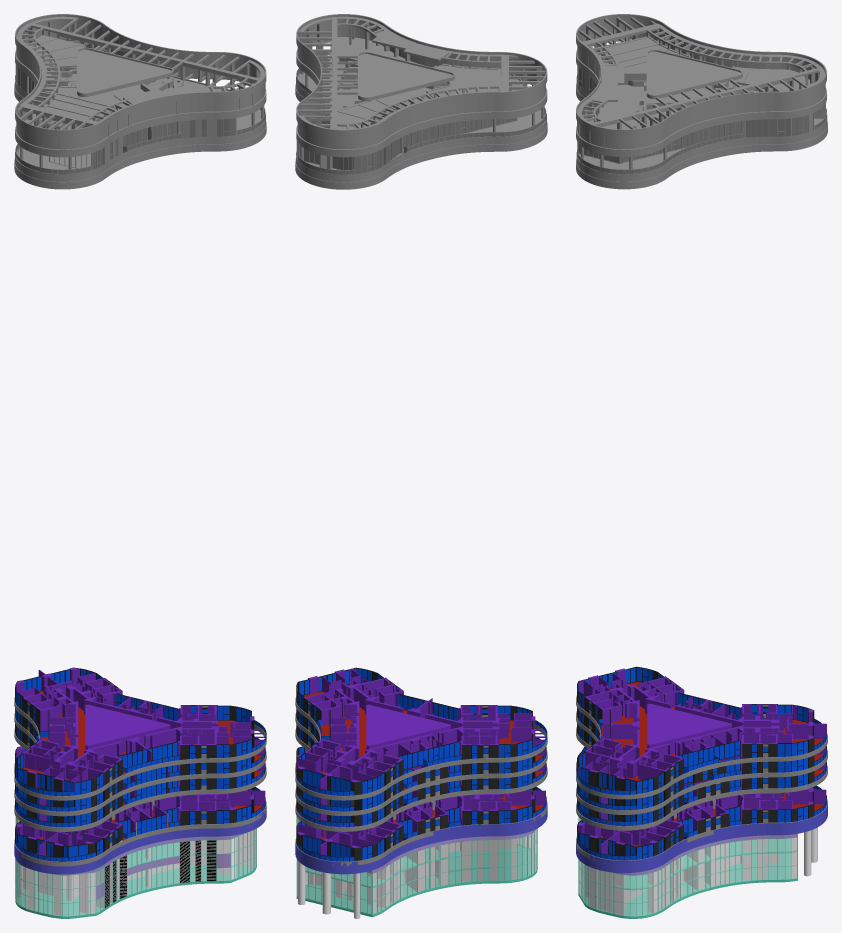
Rendered from Gindi_MainBuilding_js_4.fbx.
3 renders of one model, left to right at view 1: azimuth 30°, elevation 25°; view 2: azimuth 150°, elevation 25°; view 3: azimuth 270°, elevation 25°, orthographic.
Visible parts, largest first — view 1: wall_roof, Glass, panel_roof, Wall, APT_21-43_Int_5P_001, Windows, Floor, APT_21-43_Int_5P, hall_21-43, glass_roof, APT_21-43_Int_3M_001, APT_5-7_Int_3Rs (+25 smaller); view 2: wall_roof, Glass, panel_roof, Wall, Floor, APT_21-43_Int_5R_001, glass_roof, APT_21-43_Int_5P_001, Windows, floor_roof, Decoration, hall_21-43 (+21 smaller); view 3: wall_roof, Glass, panel_roof, Wall, APT_21-43_Int_5P, APT_21-43_Int_5R, Floor, glass_roof, Windows, Decoration, floor_roof, hall_21-43 (+21 smaller).
Part boxes in pixels (<box>): wall_roof: <box>14,14,266,189</box>; Glass: <box>15,817,256,916</box>; panel_roof: <box>15,21,265,181</box>; Wall: <box>16,818,255,915</box>; APT_21-43_Int_5P_001: <box>14,746,107,800</box>; Windows: <box>15,817,256,916</box>; Floor: <box>15,842,256,918</box>; APT_21-43_Int_5P: <box>198,705,266,762</box>; hall_21-43: <box>78,704,170,757</box>; glass_roof: <box>15,43,265,174</box>; APT_21-43_Int_3M_001: <box>133,726,215,769</box>; APT_5-7_Int_3Rs: <box>38,827,115,866</box>; wall_roof: <box>295,14,547,189</box>; Glass: <box>296,816,537,914</box>; panel_roof: <box>296,21,546,182</box>; Wall: <box>297,818,533,918</box>; Floor: <box>296,822,537,917</box>; APT_21-43_Int_5R_001: <box>319,742,418,800</box>; glass_roof: <box>296,68,546,174</box>; APT_21-43_Int_5P_001: <box>478,705,547,762</box>; Windows: <box>296,816,537,914</box>; floor_roof: <box>296,36,545,177</box>; Decoration: <box>295,767,547,874</box>; hall_21-43: <box>359,704,450,757</box>; wall_roof: <box>576,14,827,189</box>; Glass: <box>578,817,797,916</box>; panel_roof: <box>576,21,827,181</box>; Wall: <box>579,818,817,914</box>; APT_21-43_Int_5P: <box>576,751,677,799</box>; APT_21-43_Int_5R: <box>711,724,827,765</box>; Floor: <box>578,838,797,918</box>; glass_roof: <box>577,67,826,174</box>; Windows: <box>578,817,797,916</box>; Decoration: <box>576,763,827,872</box>; floor_roof: <box>577,41,827,174</box>; hall_21-43: <box>639,703,731,756</box>.
Bounding box in the file's own units: 5193 × 16410 × 4741.
